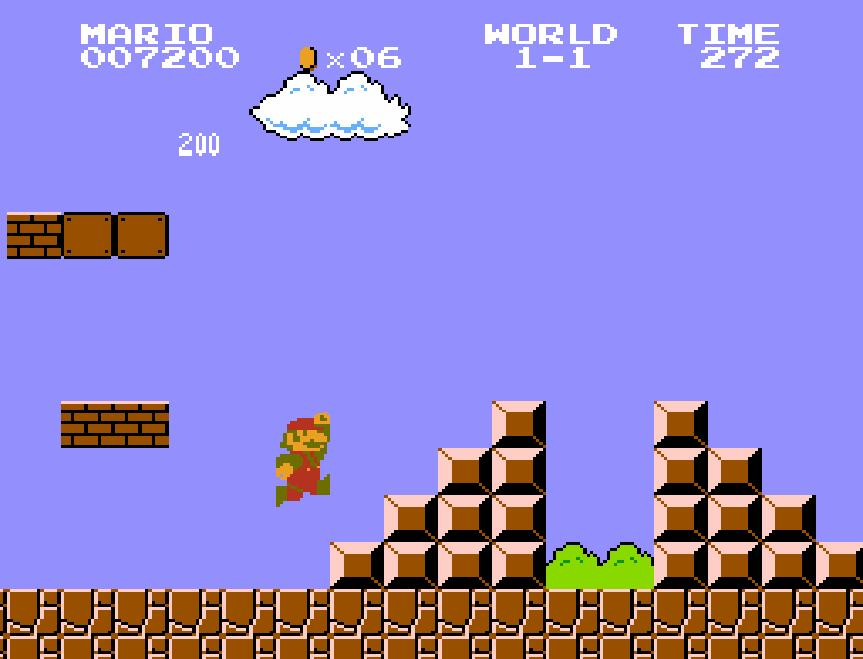big_mario: (274, 410, 332, 508)
